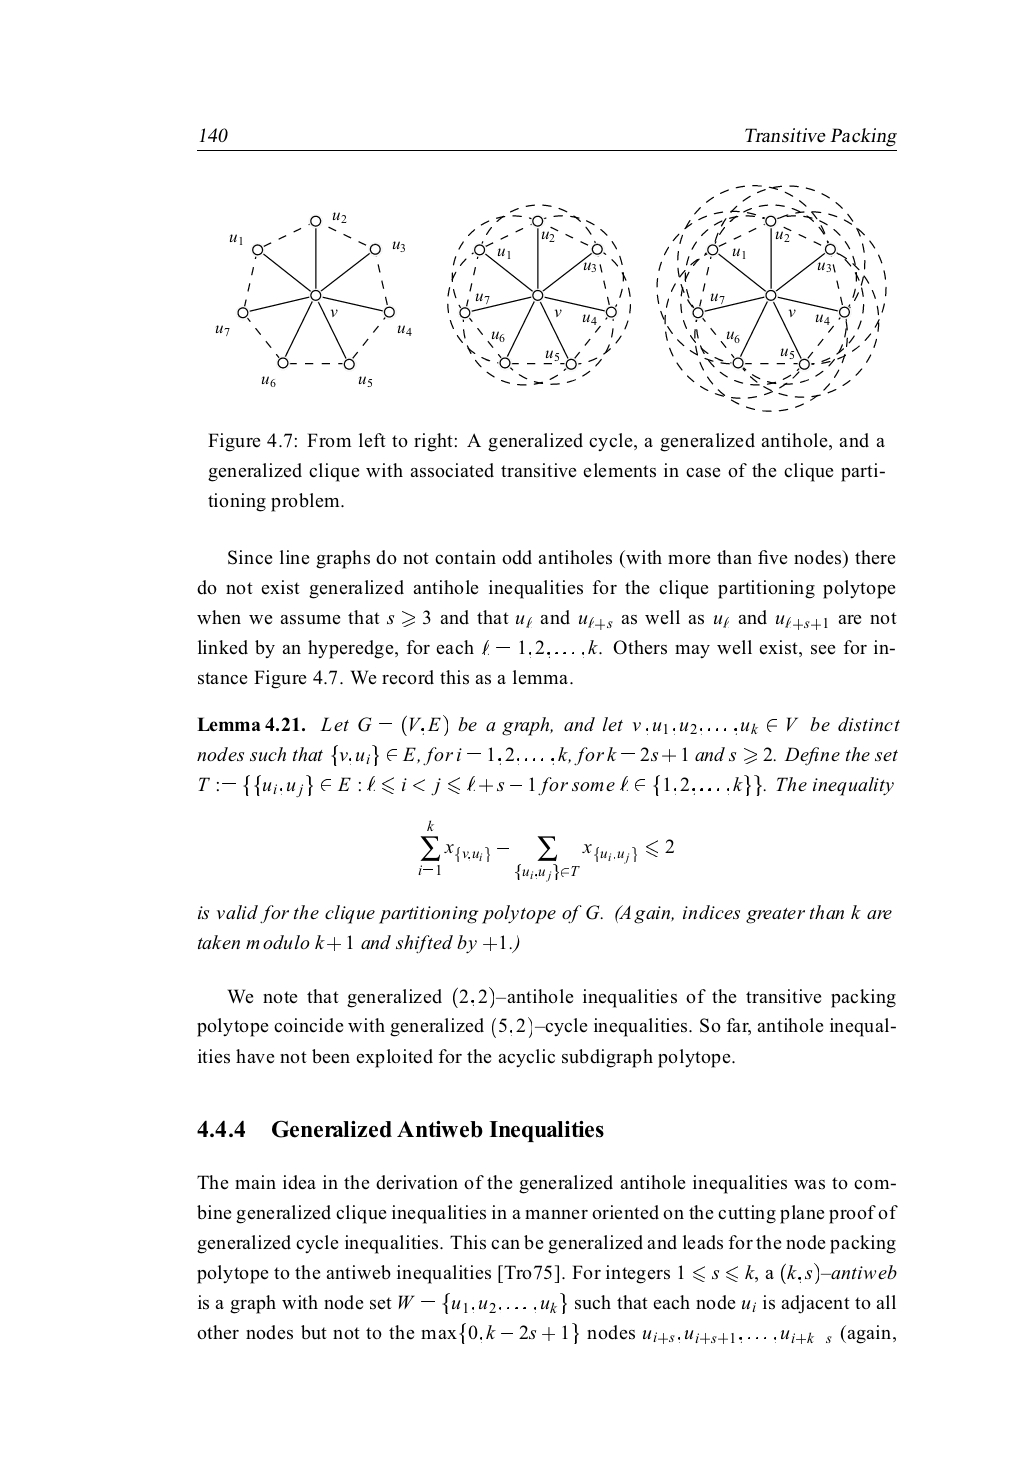figure: (656, 185, 886, 410), (215, 212, 411, 386), (447, 204, 630, 385)
formula: (418, 820, 673, 881)
